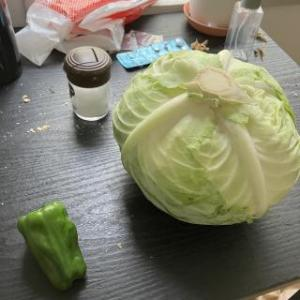cabbage: (112, 49, 300, 228)
